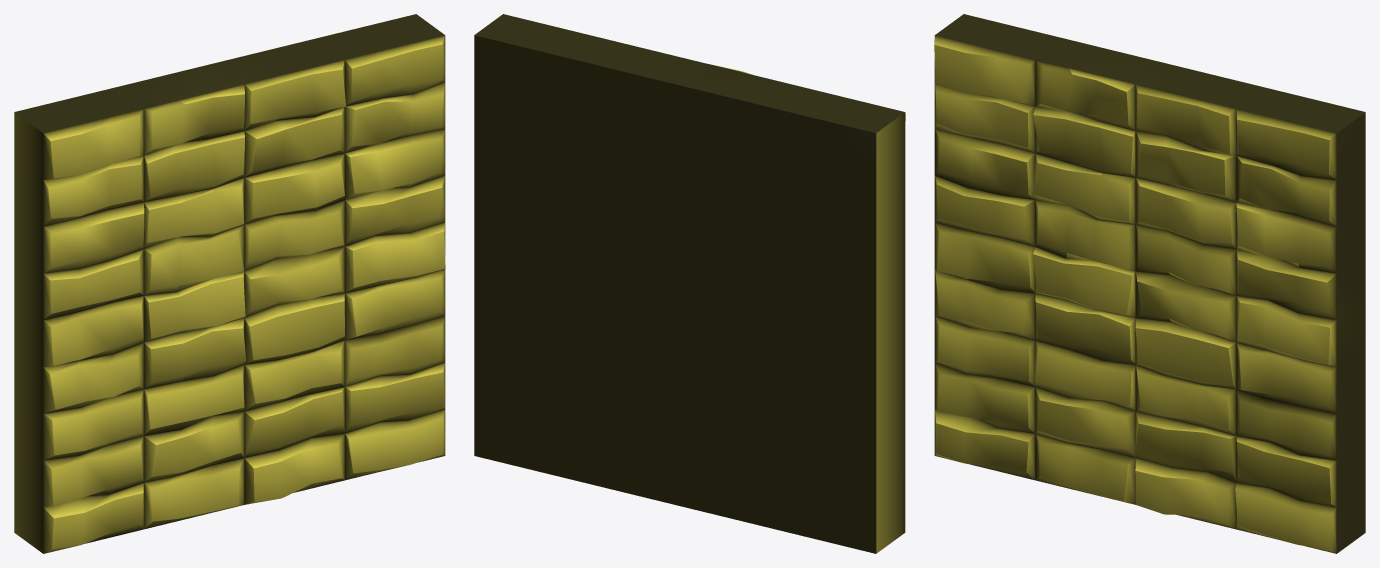
File: Wall1.fbx
3 renders of one model, left to right at view 1: azimuth 30°, elevation 25°; view 2: azimuth 150°, elevation 25°; view 3: azimuth 330°, elevation 25°, orthographic.
Visible parts, largest first — view 1: Wall1; view 2: Wall1; view 3: Wall1.
Part boxes in pixels (left/top/right/bottom): Wall1: left=14, top=14, right=445, bottom=553; Wall1: left=474, top=14, right=905, bottom=553; Wall1: left=934, top=14, right=1365, bottom=553.
Size of the model in its own units: 200 by 200 by 30.33.
